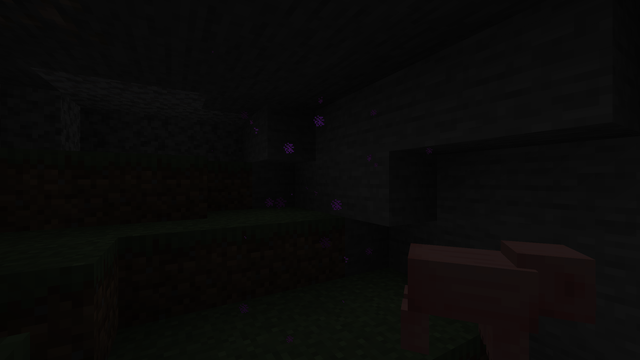cochons: (395, 238, 538, 358)
